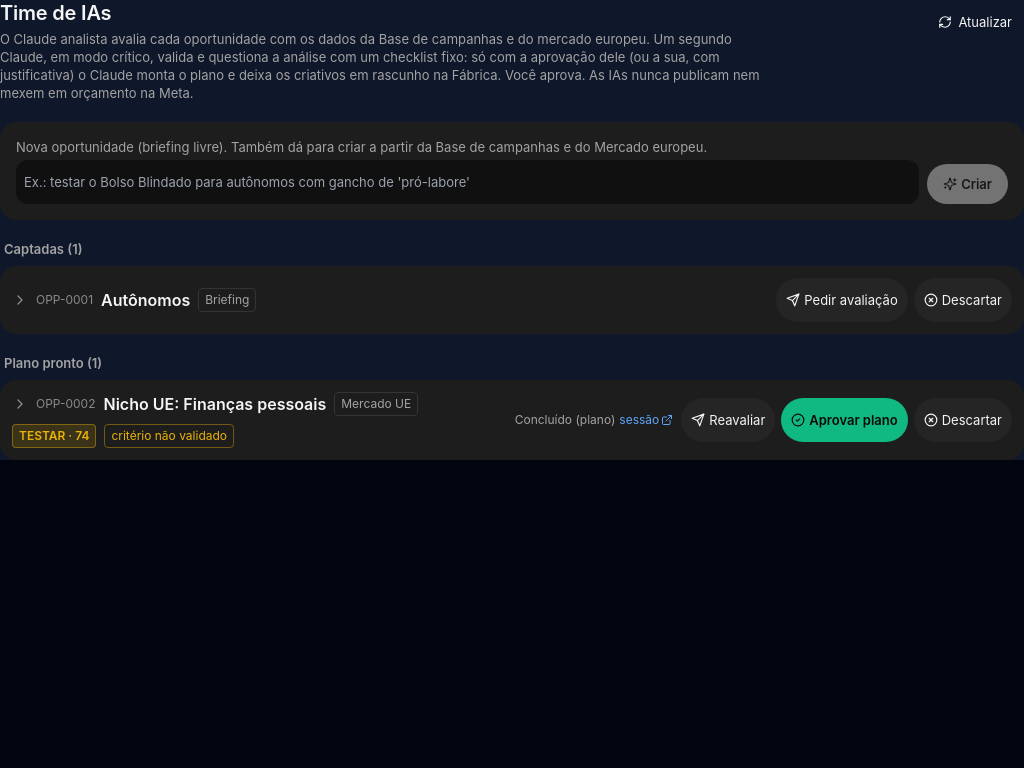
it: NORQVA-0017 — Time de IAs › groups opportunities by stage and shows Claude + GPT opinions and the plan
This screenshot has width=1024, height=768.
expect the number of elements with test id "ai-opportunity" is 2: met, box [0, 266, 1023, 334]; [0, 380, 1023, 460]
expect the element with test id "ai-stage-CAPTADA" shows "Autônomos": met, box [12, 278, 768, 322]
What coordinates should you click on to do the following:
click the text "Nicho UE: Finanças pessoais"
I would click on:
 (215, 404)
Its box is [104, 392, 326, 416].
(page scrolled)
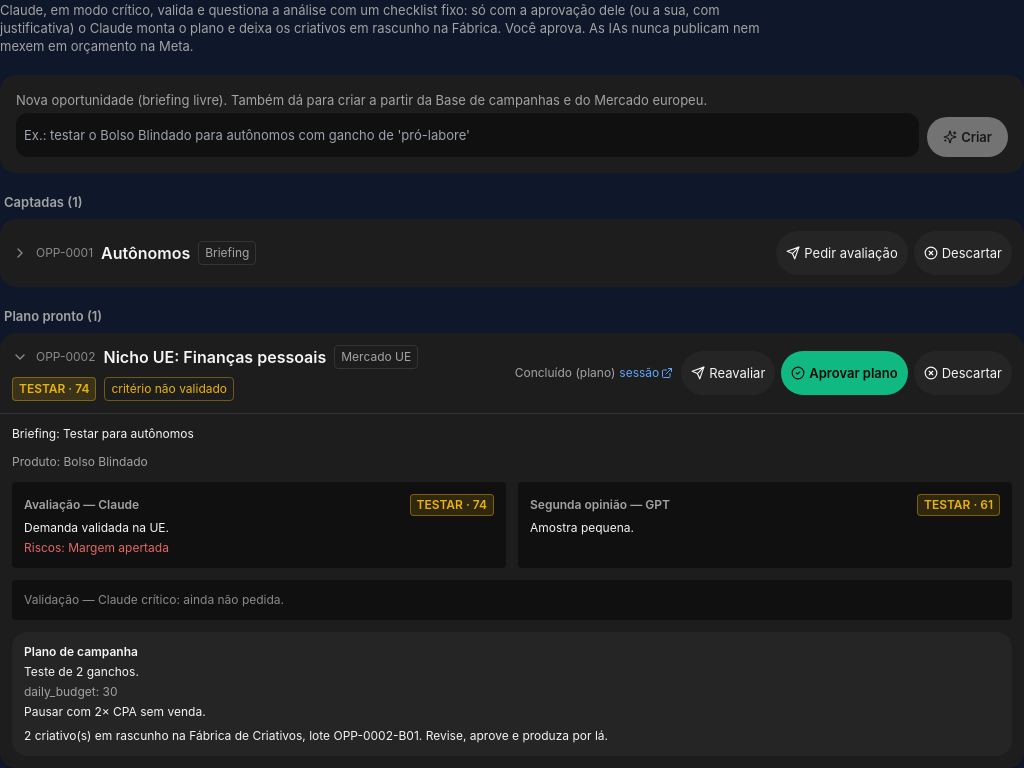
expect the element with test id "ai-opportunity-detail" shows "Demanda validada na UE.": met, box [24, 520, 169, 535]
expect the element with test id "ai-opportunity-detail" shows "Amostra pequena.": met, box [530, 520, 634, 535]
expect the element with test id "ai-opportunity-plan" shows "OPP-0002-B01": met, box [334, 728, 419, 743]
